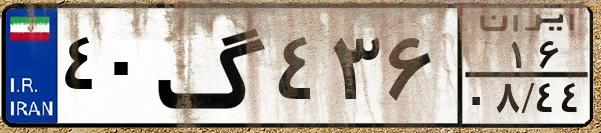0: (110, 28, 156, 98), (470, 70, 495, 125)
1: (508, 27, 537, 80)
3: (330, 28, 385, 110)
4: (270, 28, 330, 110), (57, 26, 110, 100), (560, 70, 590, 125), (535, 70, 560, 125)
6: (385, 28, 445, 110), (537, 27, 568, 80)
8: (495, 70, 520, 125)
گ: (156, 12, 270, 120)
